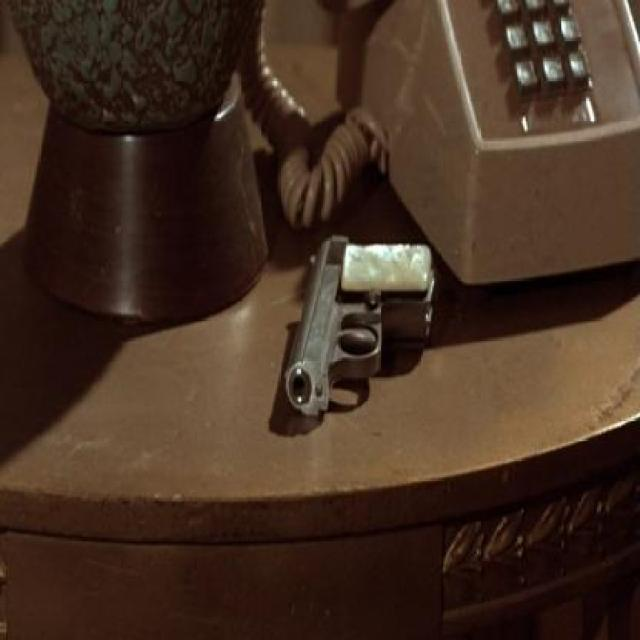gun: (276, 180, 449, 434)
